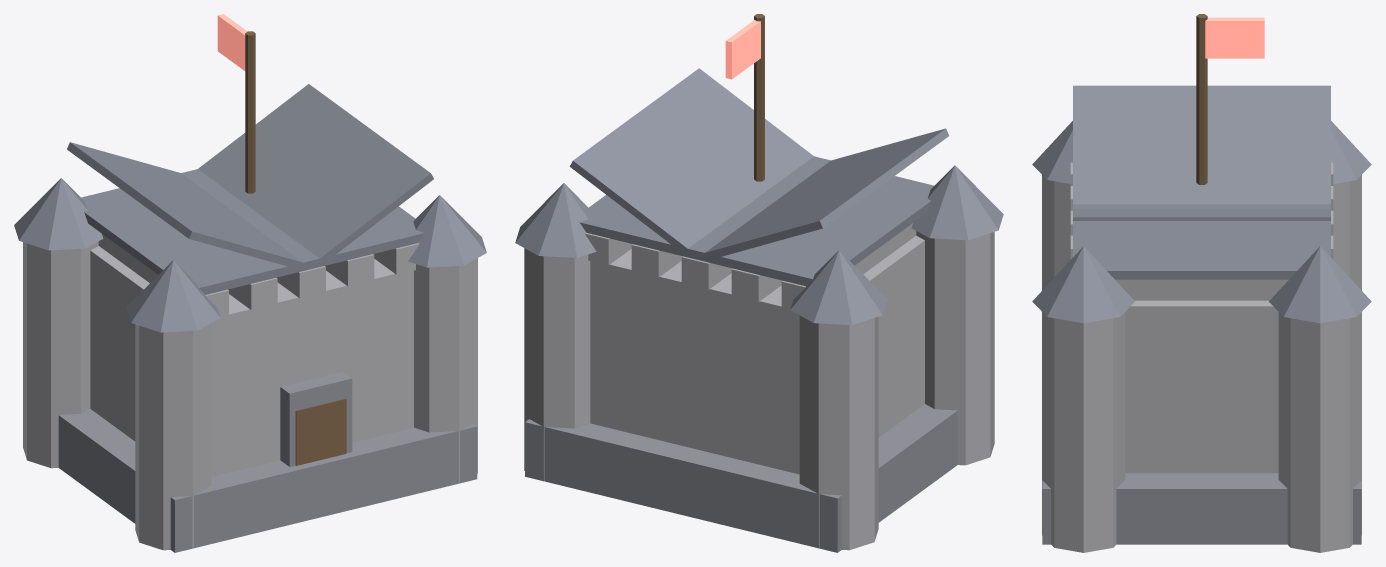
Rendered from castle.glb.
The picture shows the model from 3 angles, left to right: view 1: azimuth 30°, elevation 25°; view 2: azimuth 150°, elevation 25°; view 3: azimuth 270°, elevation 25°; orthographic projection. The views are drawn at different scales.
Visible parts, largest first — view 1: KeepBody, KeepBase, KeepRoofSlabR, Tower-1.0-0.86, Tower-1.00.86, KeepRoof, Tower1.0-0.86, KeepRoofSlabL, TowerRoof-1.0-0.86, TowerRoof-1.00.86, TowerRoof1.0-0.86, GateFrame (+8 smaller); view 2: KeepBody, KeepBase, KeepRoofSlabR, Tower-1.00.86, Tower-1.0-0.86, KeepRoof, Tower1.00.86, KeepRoofSlabL, TowerRoof-1.00.86, TowerRoof-1.0-0.86, TowerRoof1.00.86, BannerPole (+6 smaller); view 3: KeepRoofSlabL, KeepBody, Tower1.0-0.86, Tower1.00.86, KeepRoof, KeepBase, TowerRoof1.0-0.86, TowerRoof1.00.86, Merlon4, KeepRoofSlabR, Tower-1.0-0.86, Tower-1.00.86 (+4 smaller).
Part boxes in pixels (x1=…): KeepBody: x1=90, y1=246, x2=413, y2=476; KeepBase: x1=58, y1=409, x2=477, y2=552; KeepRoofSlabR: x1=198, y1=84, x2=433, y2=267; Tower-1.0-0.86: x1=135, y1=323, x2=211, y2=550; Tower-1.00.86: x1=23, y1=241, x2=98, y2=468; KeepRoof: x1=81, y1=169, x2=424, y2=294; Tower1.0-0.86: x1=414, y1=258, x2=477, y2=483; KeepRoofSlabL: x1=67, y1=142, x2=302, y2=266; TowerRoof-1.0-0.86: x1=126, y1=260, x2=220, y2=332; TowerRoof-1.00.86: x1=14, y1=178, x2=103, y2=250; TowerRoof1.0-0.86: x1=408, y1=195, x2=486, y2=267; GateFrame: x1=280, y1=371, x2=352, y2=466; KeepBody: x1=590, y1=235, x2=924, y2=474; KeepBase: x1=525, y1=404, x2=957, y2=552; KeepRoofSlabR: x1=570, y1=68, x2=813, y2=258; Tower-1.00.86: x1=799, y1=315, x2=878, y2=550; Tower-1.0-0.86: x1=916, y1=231, x2=994, y2=465; KeepRoof: x1=580, y1=156, x2=933, y2=286; Tower1.00.86: x1=524, y1=248, x2=590, y2=481; KeepRoofSlabL: x1=695, y1=128, x2=948, y2=260; TowerRoof-1.00.86: x1=790, y1=250, x2=887, y2=325; TowerRoof-1.0-0.86: x1=911, y1=165, x2=1003, y2=240; TowerRoof1.00.86: x1=515, y1=183, x2=596, y2=257; BannerPole: x1=754, y1=14, x2=764, y2=181; KeepRoofSlabL: x1=1073, y1=85, x2=1330, y2=204; KeepBody: x1=1125, y1=300, x2=1278, y2=473; Tower1.0-0.86: x1=1042, y1=312, x2=1125, y2=552; Tower1.00.86: x1=1278, y1=312, x2=1361, y2=552; KeepRoof: x1=1073, y1=204, x2=1330, y2=279; KeepBase: x1=1042, y1=473, x2=1361, y2=544; TowerRoof1.0-0.86: x1=1032, y1=246, x2=1134, y2=323; TowerRoof1.00.86: x1=1269, y1=246, x2=1371, y2=323; Merlon4: x1=1115, y1=279, x2=1288, y2=300; KeepRoofSlabR: x1=1073, y1=208, x2=1330, y2=220; Tower-1.0-0.86: x1=1042, y1=175, x2=1070, y2=290; Tower-1.00.86: x1=1333, y1=175, x2=1361, y2=290.
Bounding box in the file's own units: 3.48 × 4.05 × 2.77.
